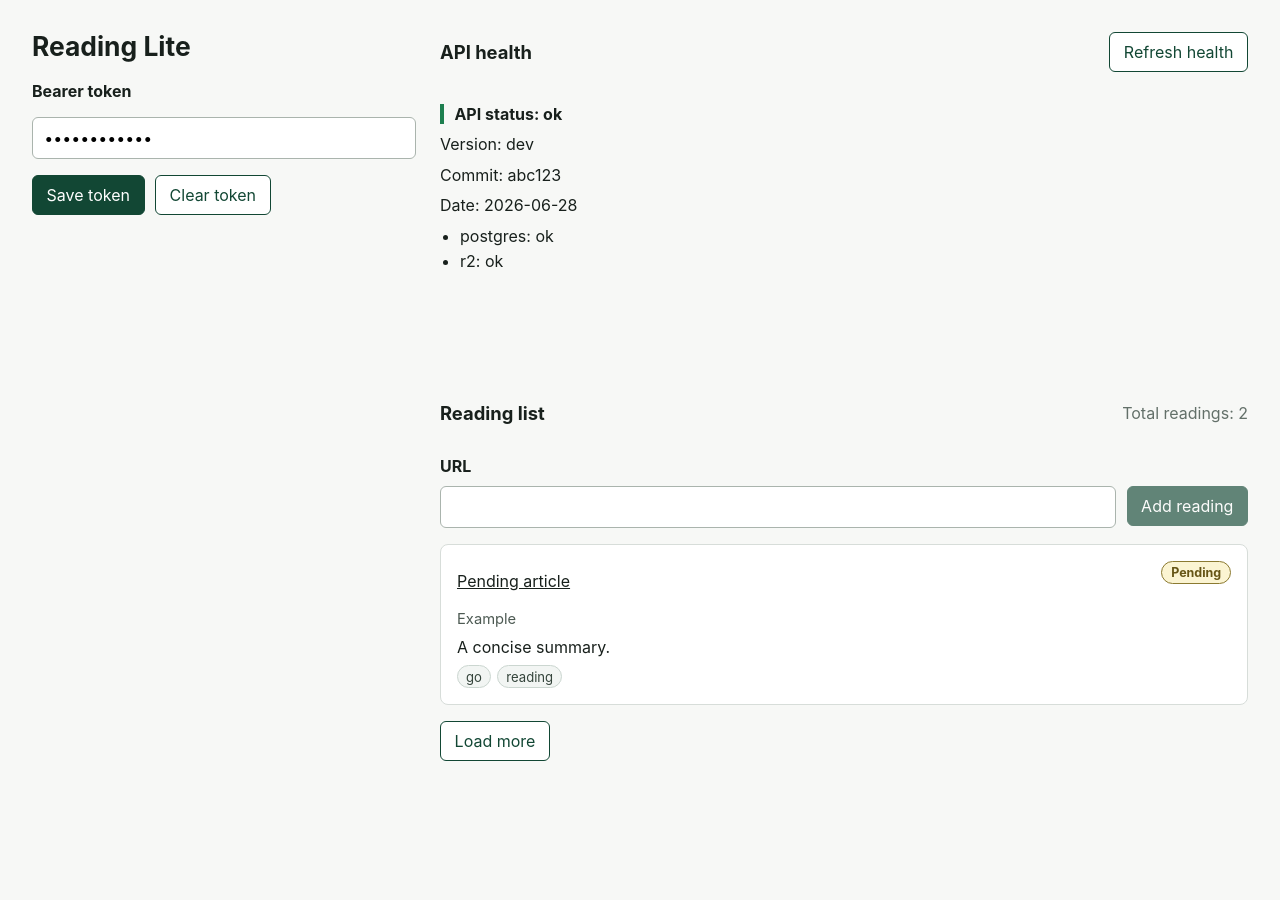
it: App › does not restart a paginated poll while a later page is still in flight
The image size is (1280, 900).
Expected: the button "Pending article" is shown, [457, 561, 570, 601]
Click the button "Load more". click: (495, 741)
box: [440, 721, 550, 761]
Wait 8000 ms
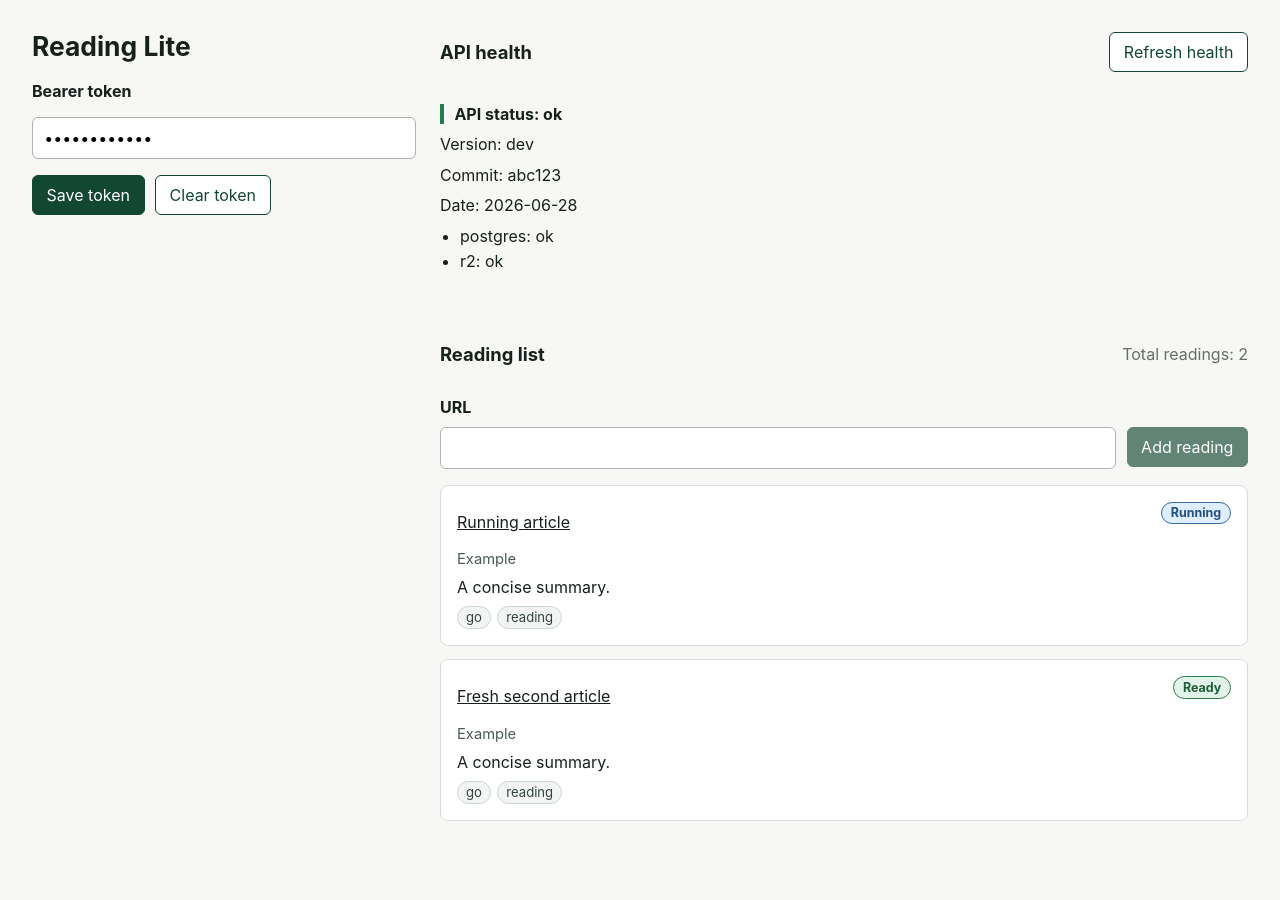
Now the button "Fresh second article" is shown, box [457, 676, 610, 716]
Now the button "Running article" is shown, box [457, 502, 570, 542]
